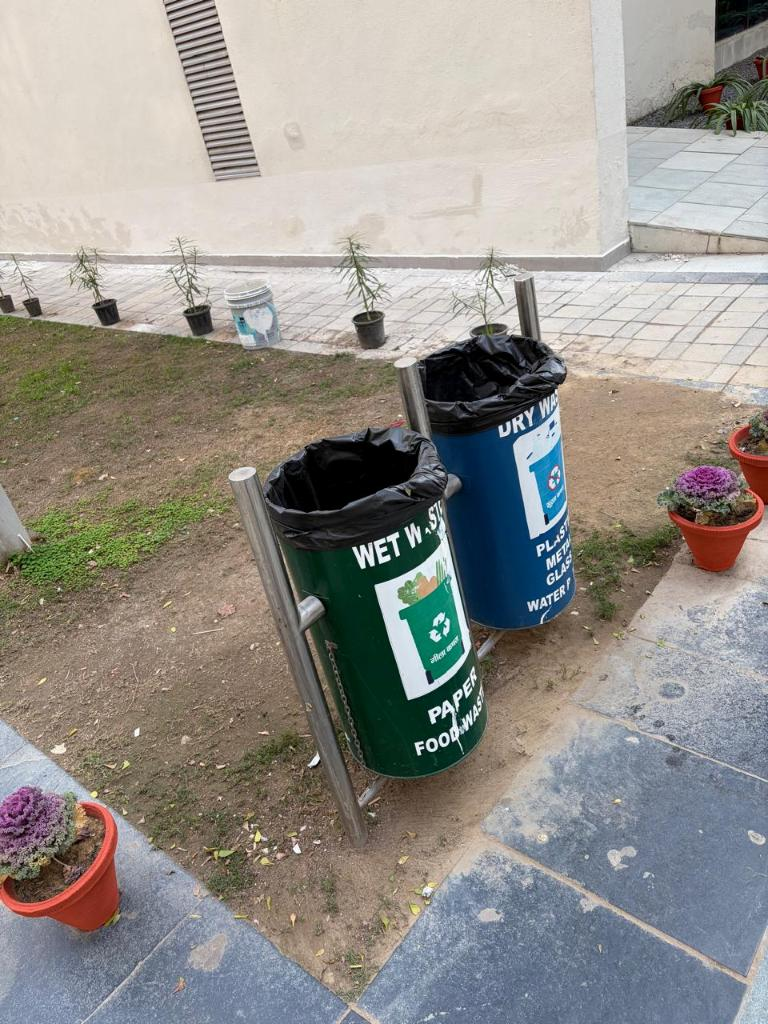dustbin: (235, 431, 501, 798), (409, 307, 573, 669)
